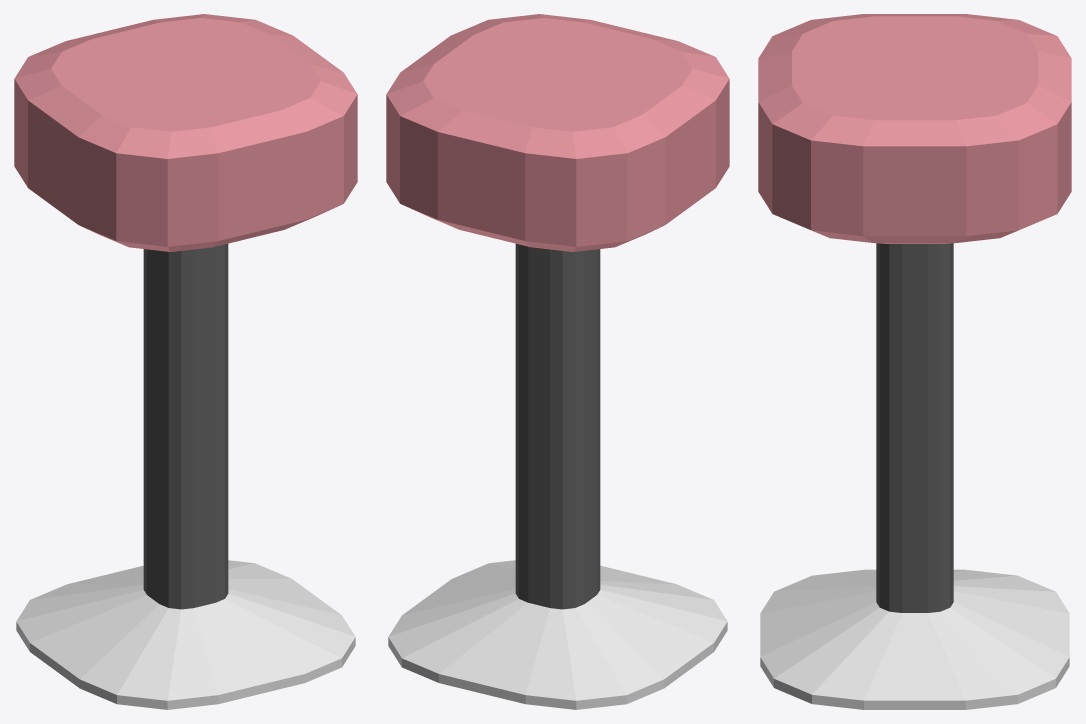
Rendered from Stool_01.fbx.
The picture shows the model from 3 angles, left to right: view 1: azimuth 30°, elevation 25°; view 2: azimuth 150°, elevation 25°; view 3: azimuth 270°, elevation 25°; orthographic projection. The views are drawn at different scales.
Visible parts, largest first — view 1: Stool_01; view 2: Stool_01; view 3: Stool_01.
Boxes of the visible parts, left/top/right/bottom form: Stool_01: left=14, top=14, right=357, bottom=709; Stool_01: left=386, top=14, right=729, bottom=709; Stool_01: left=758, top=14, right=1071, bottom=709.
Bounding box in the file's own units: 264 × 535 × 264.
